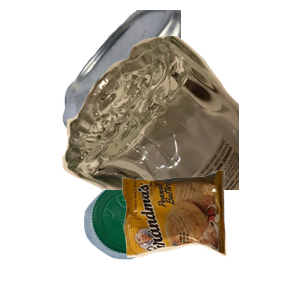glass: (60, 33, 300, 213)
metal: (60, 10, 300, 190)
plastic: (81, 179, 239, 300)
trash: (120, 168, 300, 300)
